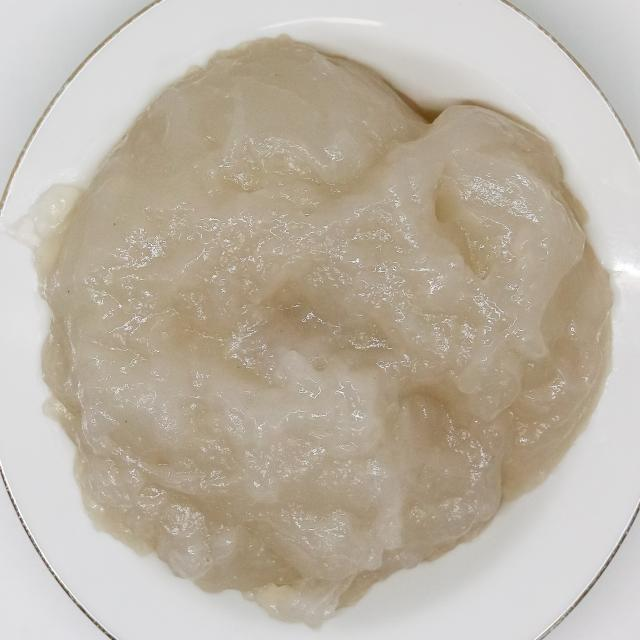Papeda: (27, 21, 626, 614)
